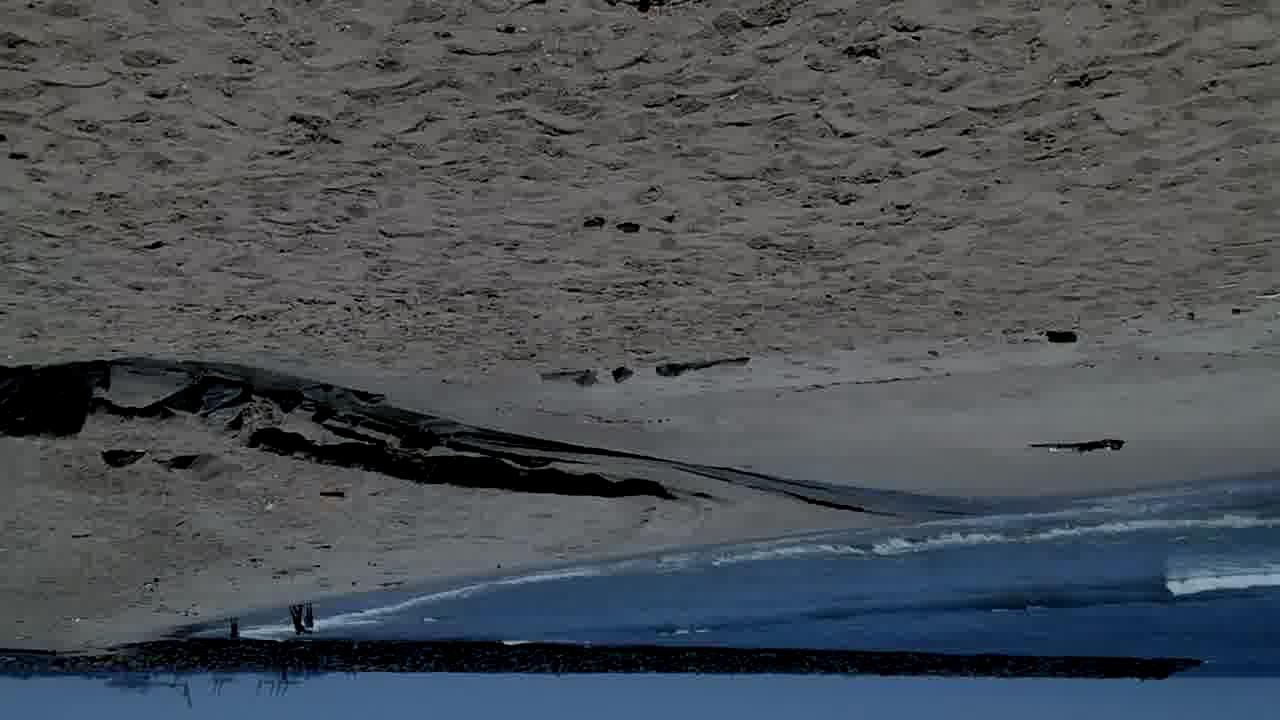large collection of objects: (284, 602, 316, 634), (228, 618, 240, 640)
obj: (650, 356, 744, 380), (1035, 439, 1125, 459), (100, 448, 149, 469), (153, 455, 201, 472), (609, 368, 634, 384)
sand/background: (1, 468, 1279, 719)
